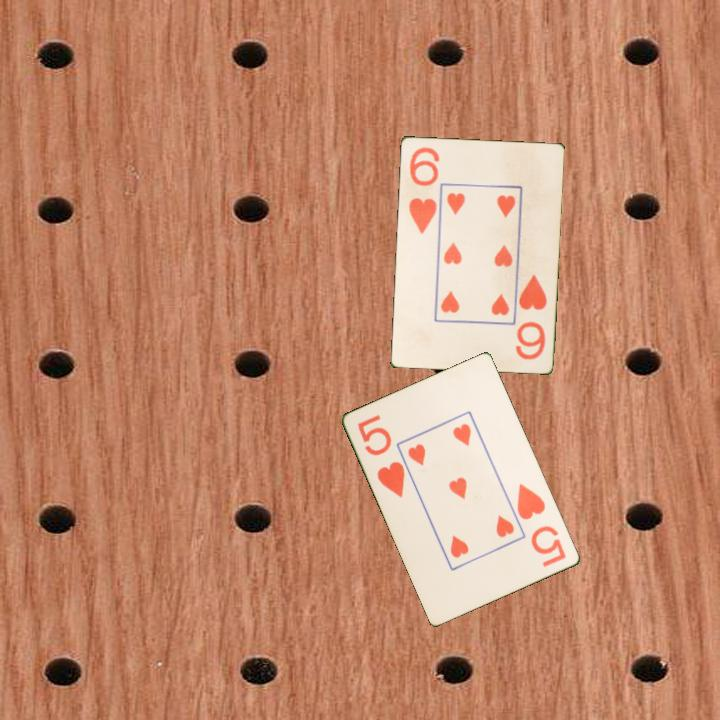5h: (514, 480, 569, 570), (354, 411, 408, 501)
6h: (403, 143, 441, 237), (513, 271, 549, 363)
